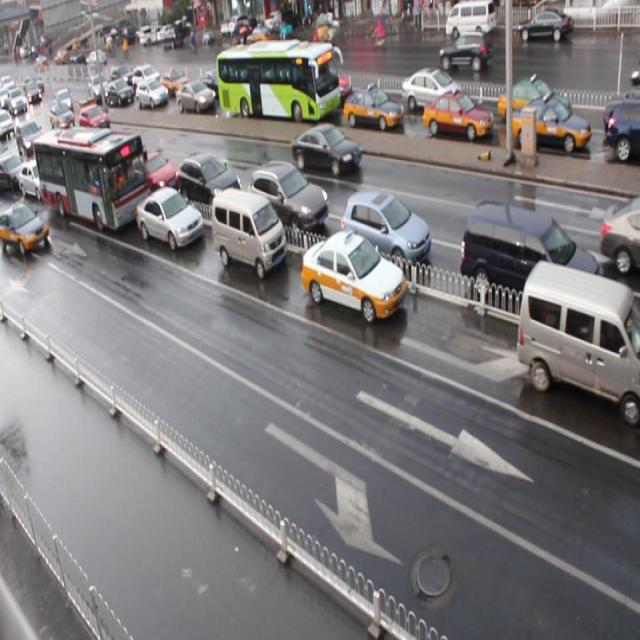car: (302, 231, 406, 324), (342, 190, 432, 274), (249, 160, 329, 233), (512, 97, 591, 155), (137, 186, 204, 250), (496, 74, 572, 129), (292, 121, 360, 178), (178, 151, 243, 210), (424, 92, 494, 139), (598, 197, 640, 274), (398, 67, 465, 114), (344, 84, 404, 132), (1, 200, 51, 256), (135, 146, 180, 194), (606, 98, 640, 159), (603, 92, 640, 138), (20, 157, 57, 201), (311, 64, 352, 101), (85, 134, 123, 172), (176, 82, 217, 114), (80, 104, 111, 142), (1, 152, 29, 194), (32, 129, 61, 168), (136, 78, 168, 110), (16, 120, 42, 158), (130, 62, 161, 93), (197, 69, 229, 99), (160, 68, 191, 96), (108, 78, 134, 106), (50, 105, 74, 128)
truck: (516, 255, 640, 423), (463, 197, 604, 327), (212, 188, 288, 278)
van: (35, 125, 154, 234), (216, 44, 340, 122)
